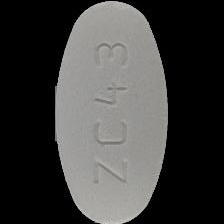68084-746: (0, 0, 224, 224)
